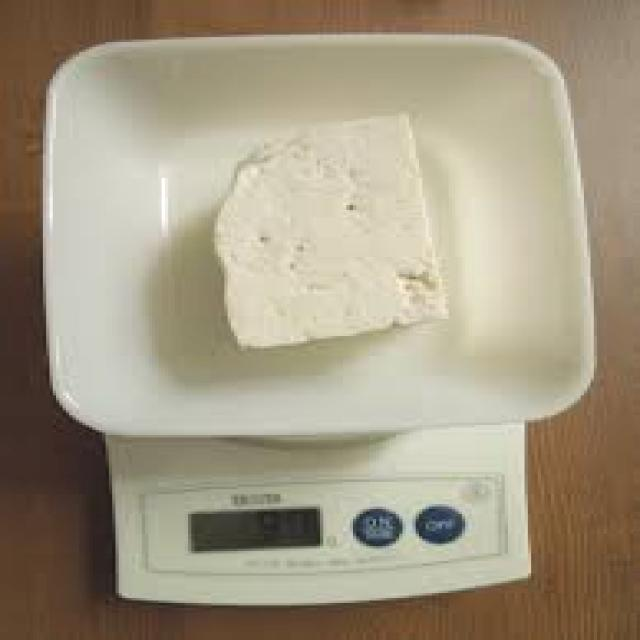tofu: (186, 119, 486, 358)
